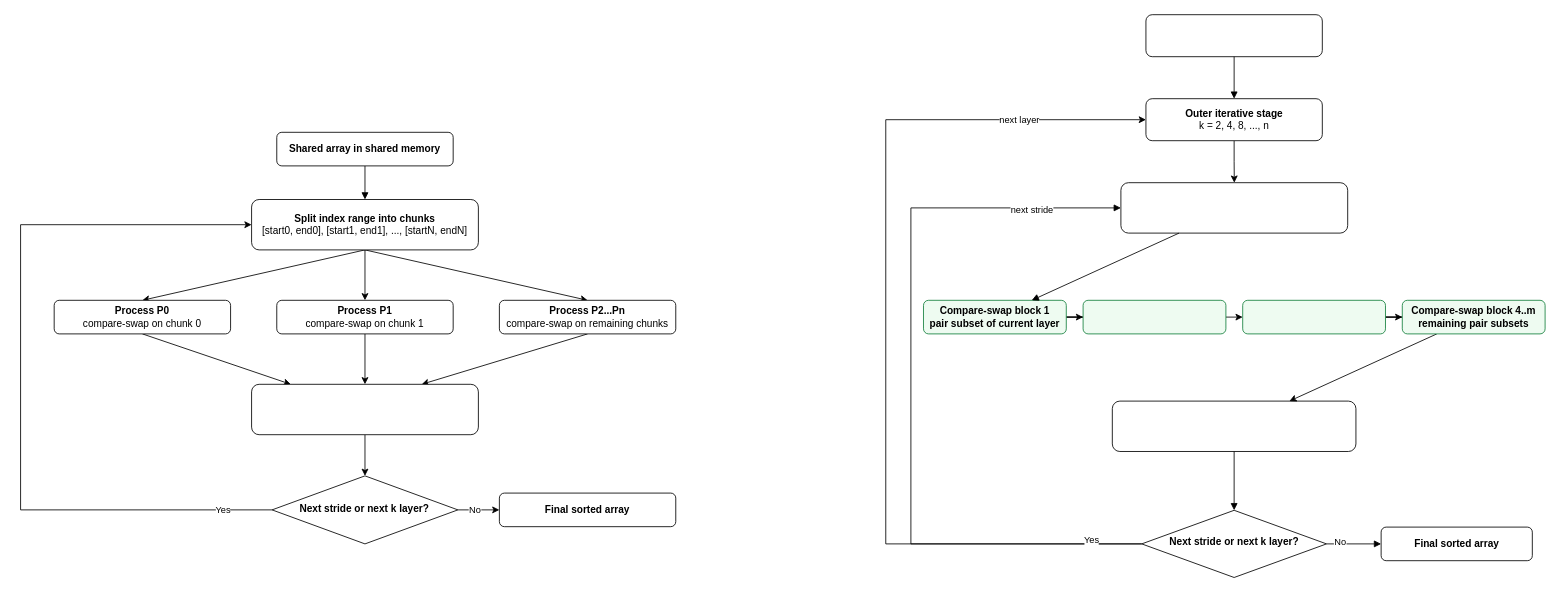
This 1560x592 diagram has some shape labels left out. Here are the shapes that lost their labels. From the top down, the box of each, then its label:
(1145, 14, 1322, 57): Input array padding to power of two
(1120, 182, 1348, 233): Inner iterative stage for stride = k/2, ..., 1
(1082, 299, 1226, 334): Compare-swap block 2 pair subset of current layer
(1242, 299, 1385, 334): Compare-swap block 3 pair subset of current layer
(251, 383, 478, 435): Barrier sync all processes must finish the current stride
(1111, 400, 1356, 452): Updated array result after all compare-swap operations of current layer
